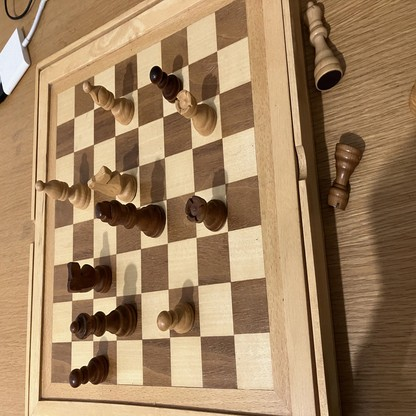bishop_white: (82, 82, 134, 124), (35, 180, 90, 209)
king_black: (95, 200, 166, 238)
knight_black: (67, 262, 113, 293)
knight_white: (88, 167, 137, 202)
pawn_black: (69, 357, 110, 387), (151, 67, 183, 101)
pawn_white: (158, 303, 195, 334)
queen_black: (72, 306, 137, 337)
queen_white: (303, 0, 343, 91)
rock_black: (327, 144, 360, 209), (186, 197, 228, 230)
rock_white: (177, 92, 217, 136)
